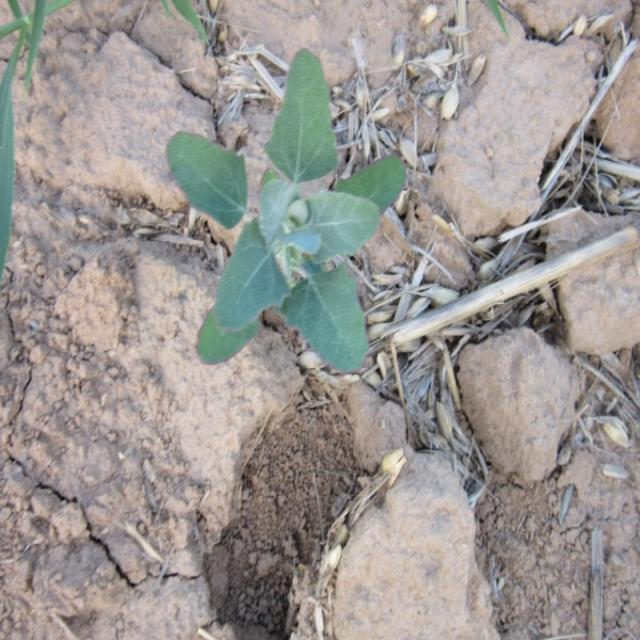ca: (164, 54, 408, 377)
